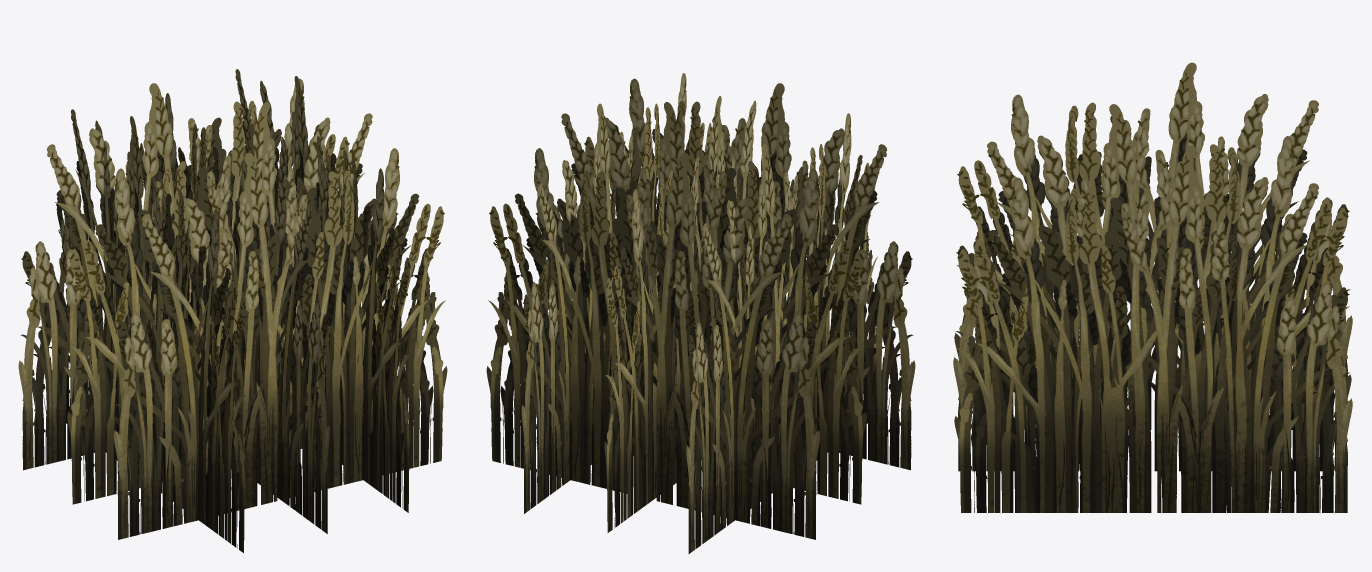
Rendered from crops.fbx.
3 renders of one model, left to right at view 1: azimuth 30°, elevation 25°; view 2: azimuth 150°, elevation 25°; view 3: azimuth 270°, elevation 25°, orthographic. The views are drawn at different scales.
Parts seen in each view (by area): view 1: Plane.003; view 2: Plane.003; view 3: Plane.003.
Boxes of the visible parts, x1,y1,x2,y2 form: Plane.003: (18, 69, 447, 552); Plane.003: (486, 73, 915, 553); Plane.003: (953, 62, 1352, 512).
Size of the model in its own units: 124 by 124 by 124.
